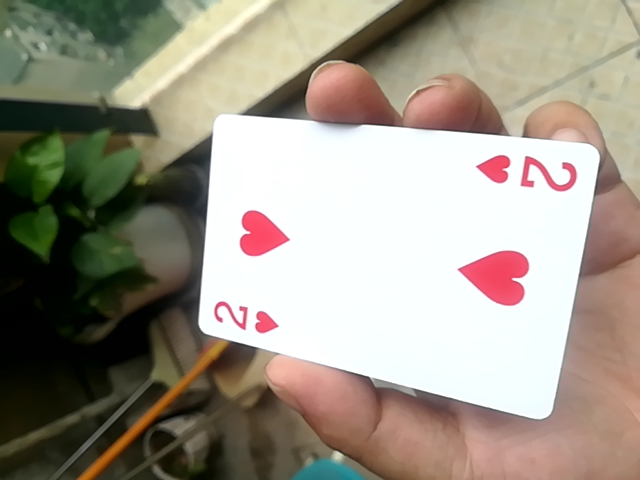hx 2: (190, 108, 603, 422)
